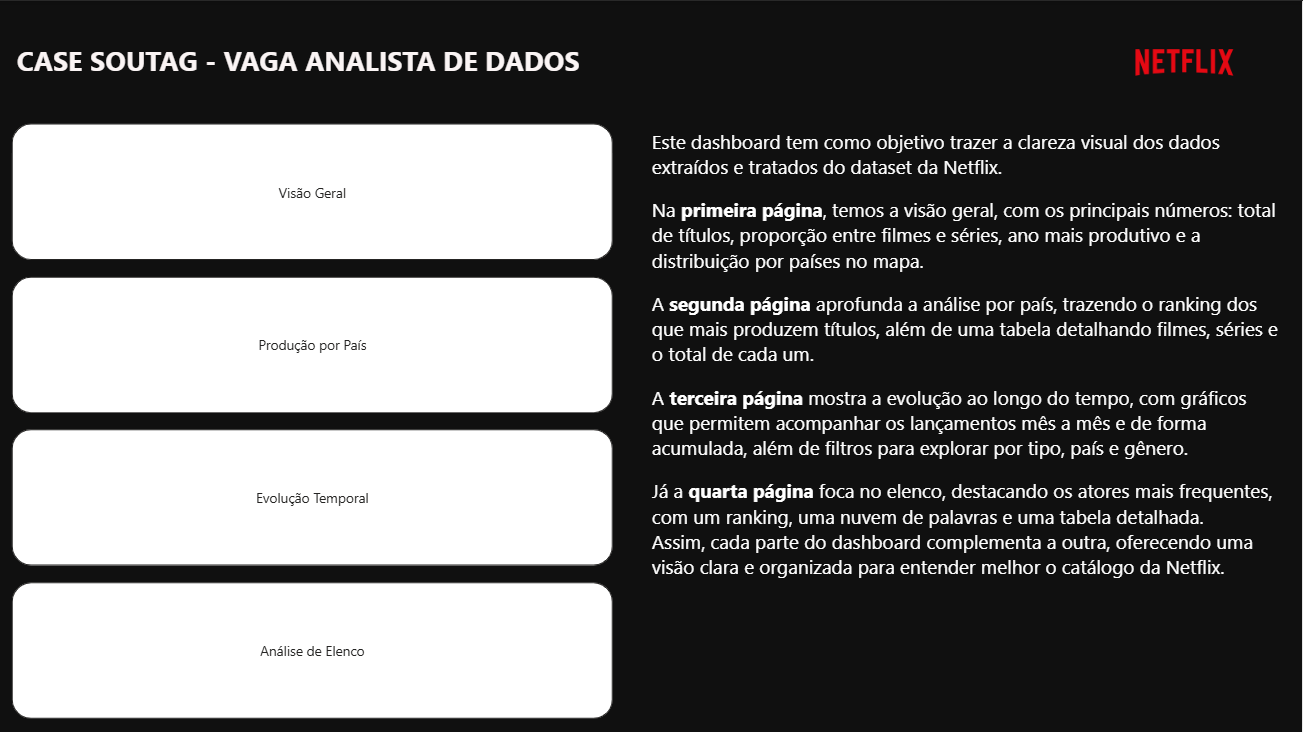

Layout of this report page (visuals, bound fields, positions):
{"tool":"powerbi","page":{"name":"Home Page","canvas":[1280,720],"ordinal":0},"visuals":[{"type":"image","box":[1065,0,198.8,120.2],"z":0},{"type":"textbox","box":[13.5,0,627,120.2],"z":1000},{"type":"textbox","box":[636.8,120.2,627,487.1],"z":2000},{"type":"pageNavigator","box":[13.5,120.2,590.2,587.7],"z":3000}]}

Visuals, with their boxes in screenshot pixels (x1, y1, x2, y2), scaled from the page's 1280x720 canvas onto the 1303x732 screenshot:
image: <bbox>1084, 0, 1287, 122</bbox>
textbox: <bbox>14, 0, 652, 122</bbox>
textbox: <bbox>648, 122, 1287, 617</bbox>
pageNavigator: <bbox>14, 122, 615, 720</bbox>
